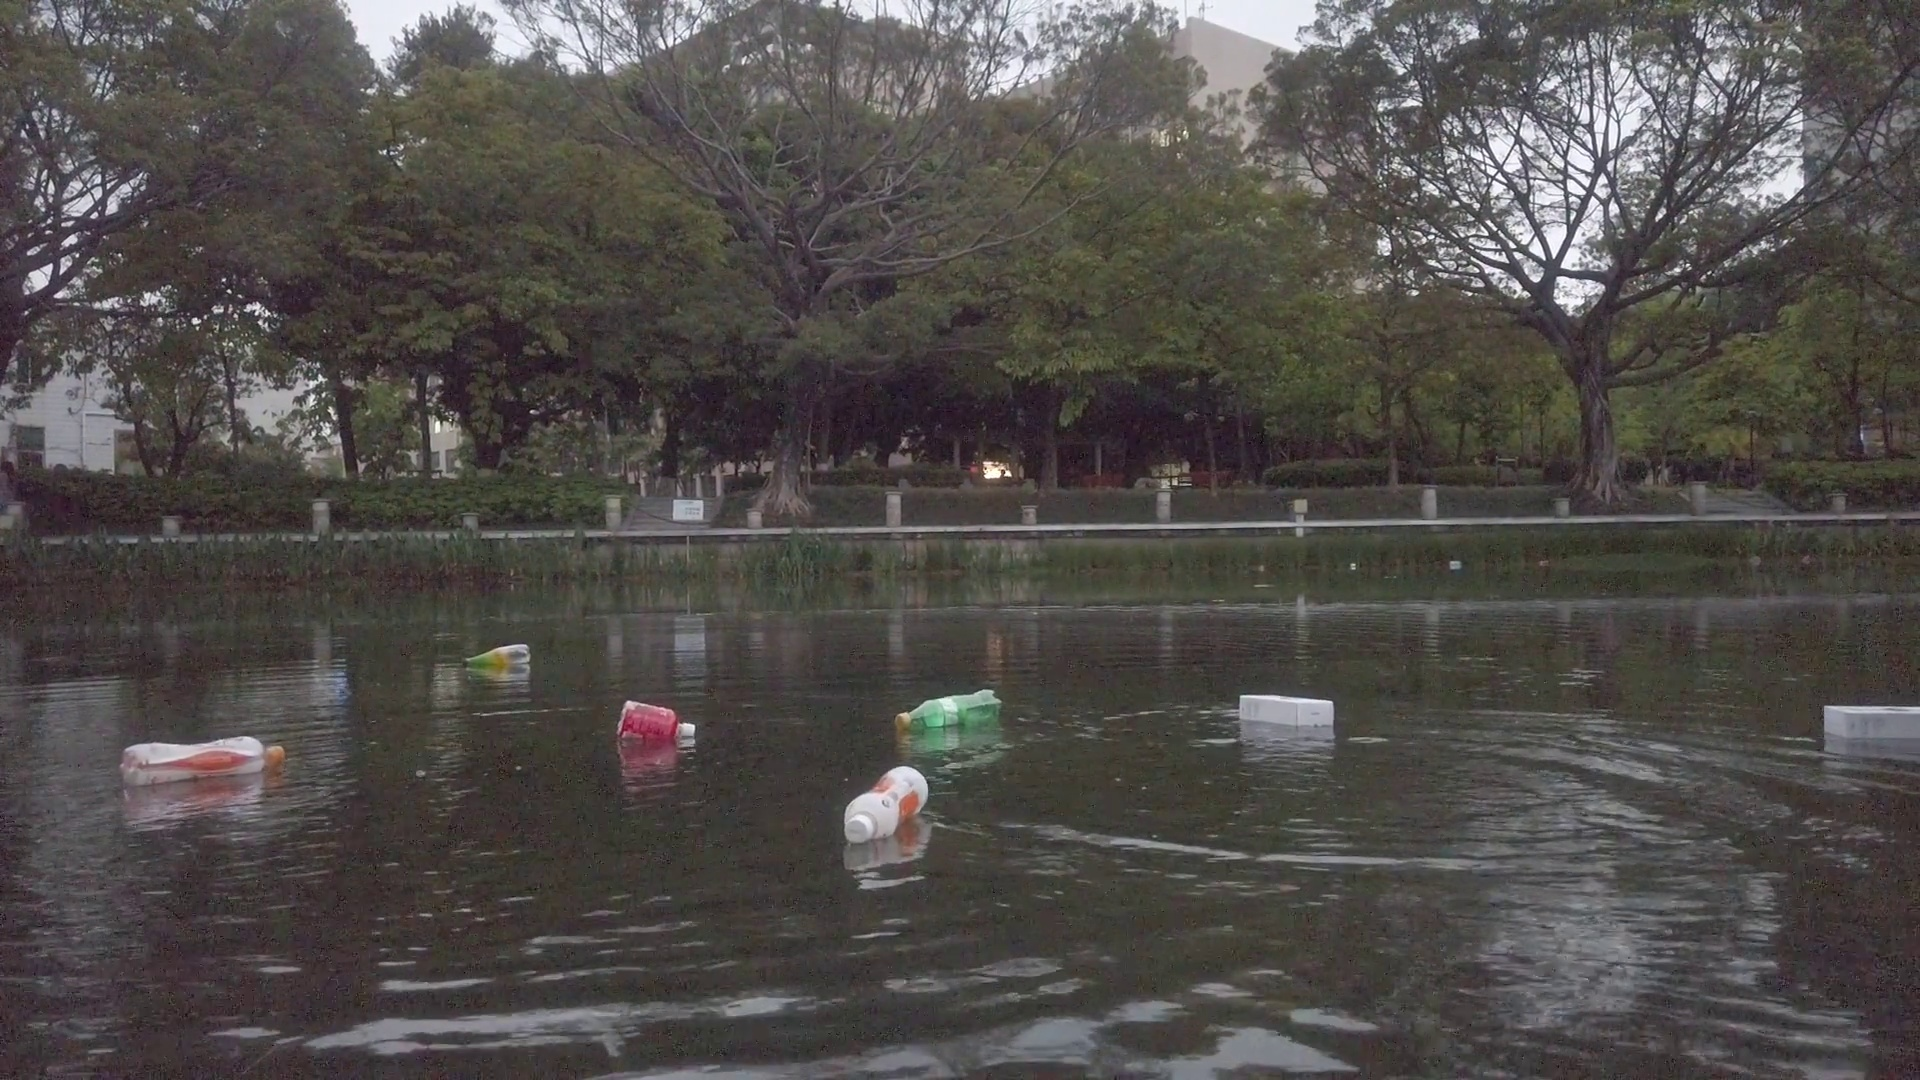bottle: (843, 761, 928, 847), (123, 736, 285, 779), (895, 688, 1000, 723), (618, 698, 698, 740), (464, 644, 531, 665)
carton: (1240, 688, 1336, 731), (1821, 699, 1916, 741), (1451, 559, 1461, 566)
